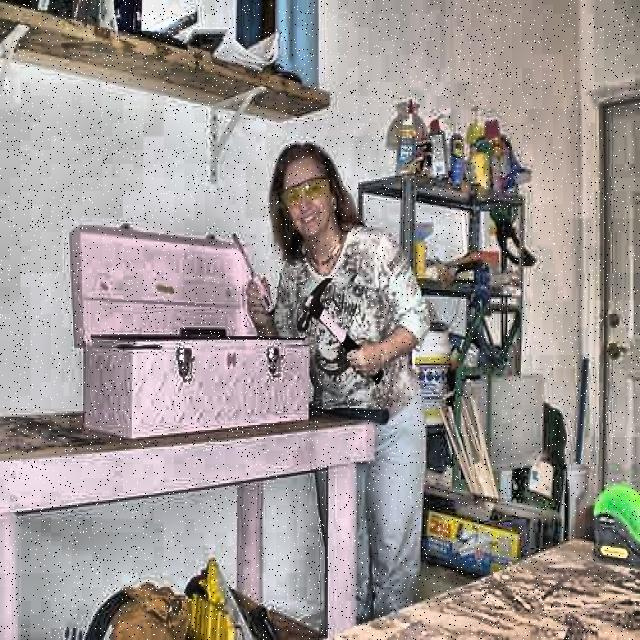hammer: (298, 278, 386, 382)
